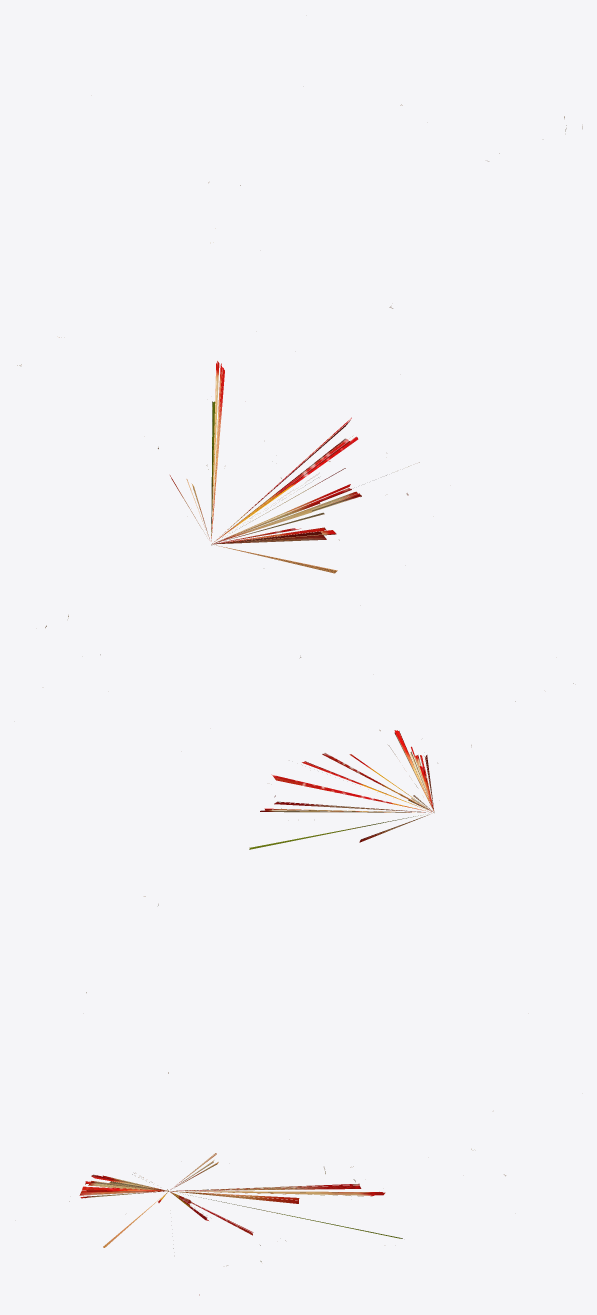
File: nature_mushrooms_02.glb
The picture shows the model from 3 angles, top to bottom: view 1: azimuth 30°, elevation 25°; view 2: azimuth 150°, elevation 25°; view 3: azimuth 270°, elevation 25°; orthographic projection. The views are drawn at different scales.
Parts seen in each view (by area): view 1: geometry_0; view 2: geometry_0; view 3: geometry_0.
Boxes of the visible parts, x1=… form: geometry_0: x1=17, y1=104, x2=582, y2=573; geometry_0: x1=45, y1=615, x2=573, y2=849; geometry_0: x1=69, y1=896, x2=505, y2=1295.
Size of the model in its own units: 0.8682 by 0.4238 by 0.7173.
1 material, 1 textured.
